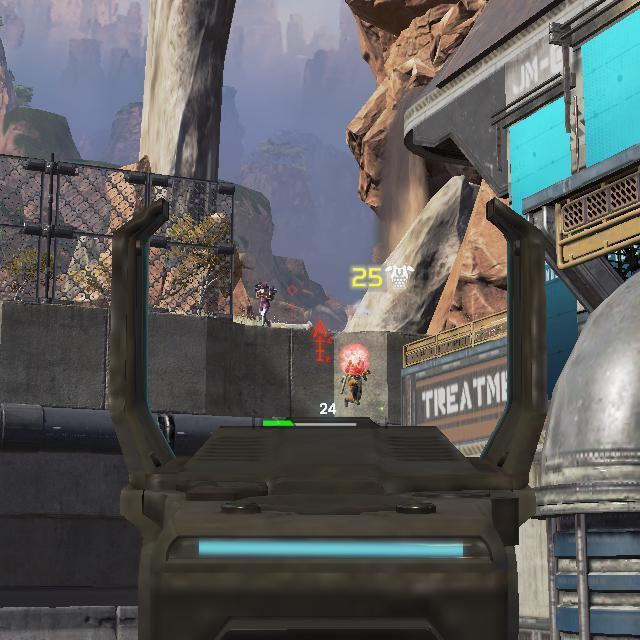avatar: (253, 280, 278, 326)
object: (340, 343, 370, 376)
